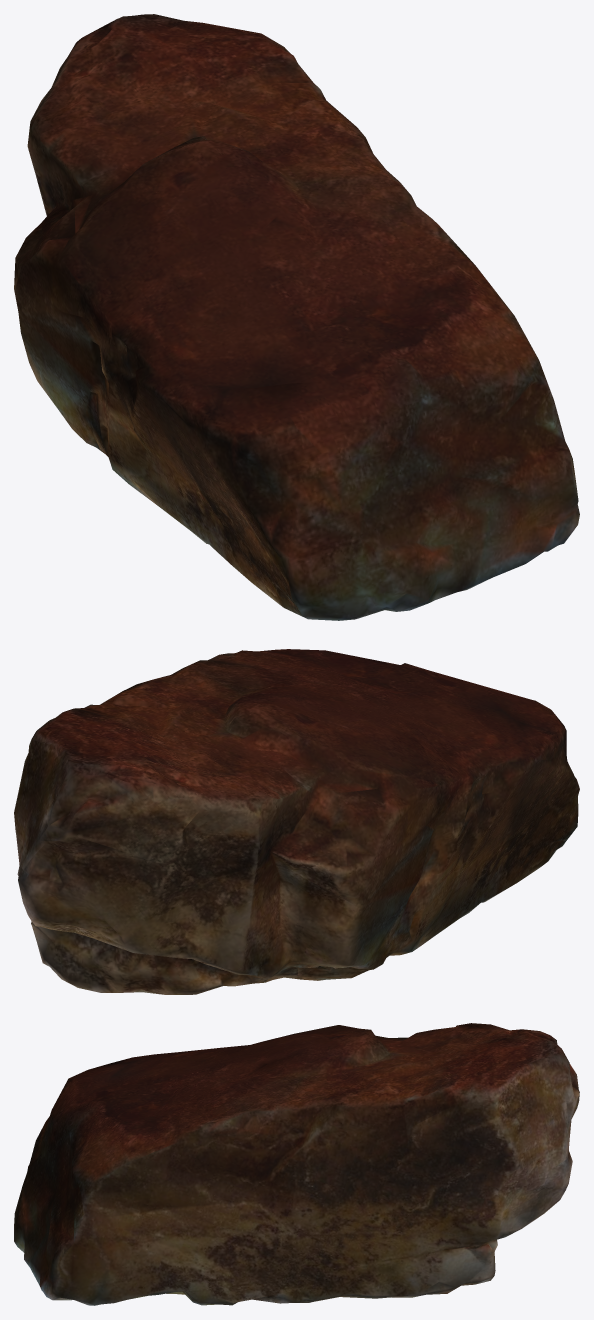
Rendered from rock_07.glb.
3 renders of one model, top to bottom at view 1: azimuth 30°, elevation 25°; view 2: azimuth 150°, elevation 25°; view 3: azimuth 270°, elevation 25°, orthographic. The views are drawn at different scales.
Parts seen in each view (by area): view 1: rock_07; view 2: rock_07; view 3: rock_07.
Part boxes in pixels (x1,y1,x2,y2): rock_07: (14, 14, 579, 620); rock_07: (14, 649, 579, 994); rock_07: (14, 1023, 579, 1305).
Bounding box in the file's own units: 0.1686 × 0.1437 × 0.3199.
Materials: 1 (1 with a texture image).
